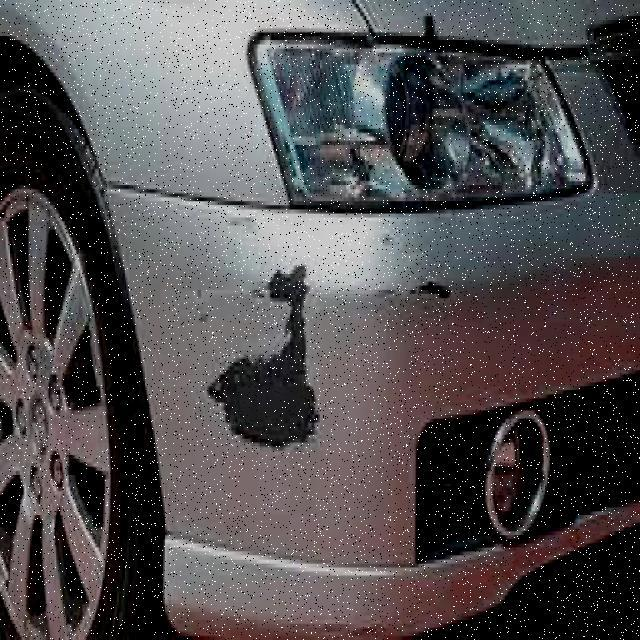car damage: (209, 258, 324, 459), (376, 272, 457, 308)
